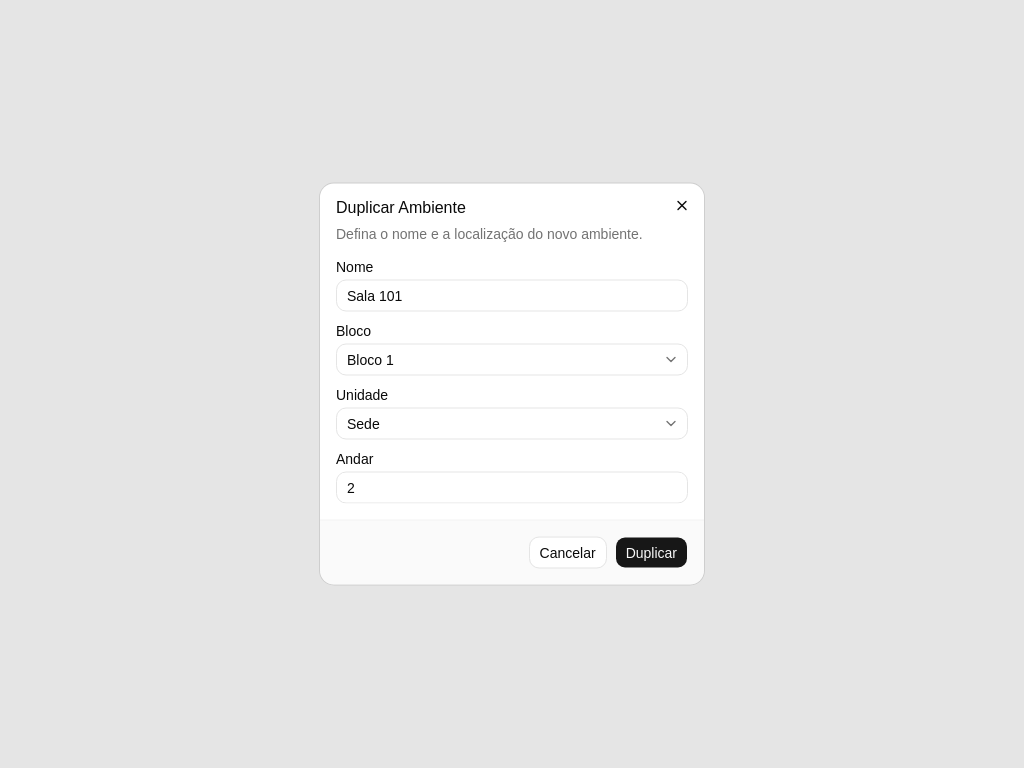
ModalDuplicar › validação client-side › não submete com nome vazio e exibe mensagem
The width and height of the screenshot is (1024, 768).
Step 1. Clear the field labelled "Nome" → (512, 296), box [336, 280, 688, 312]
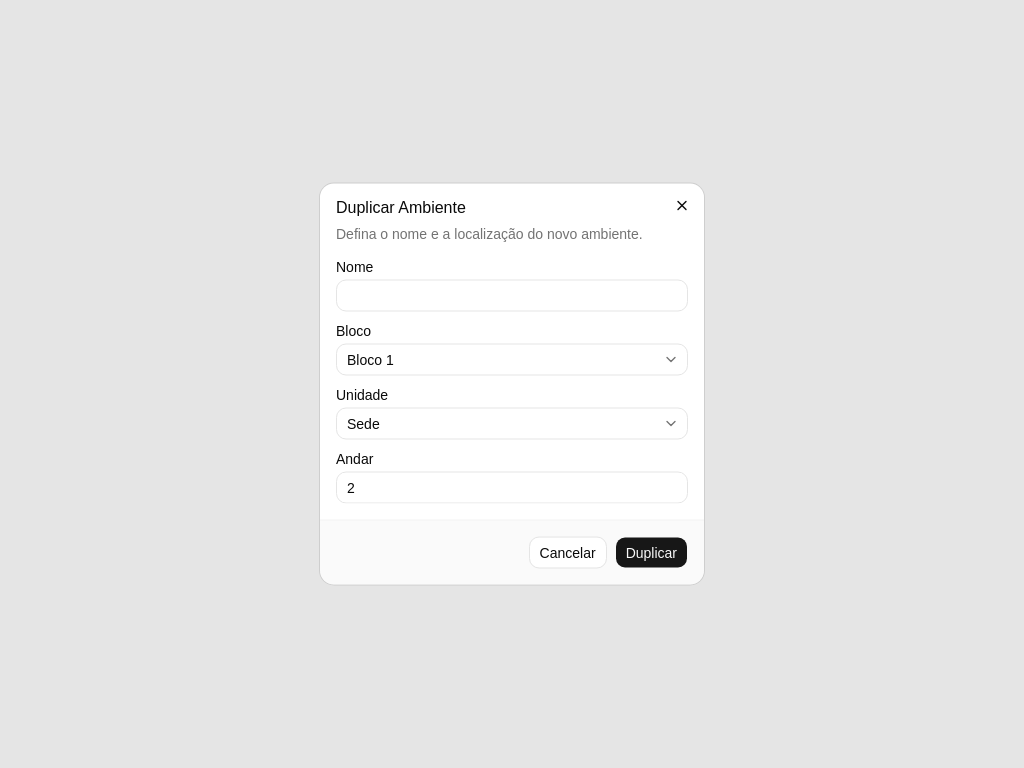
Step 2. Click the button "Duplicar" → (651, 552), box [615, 536, 688, 568]
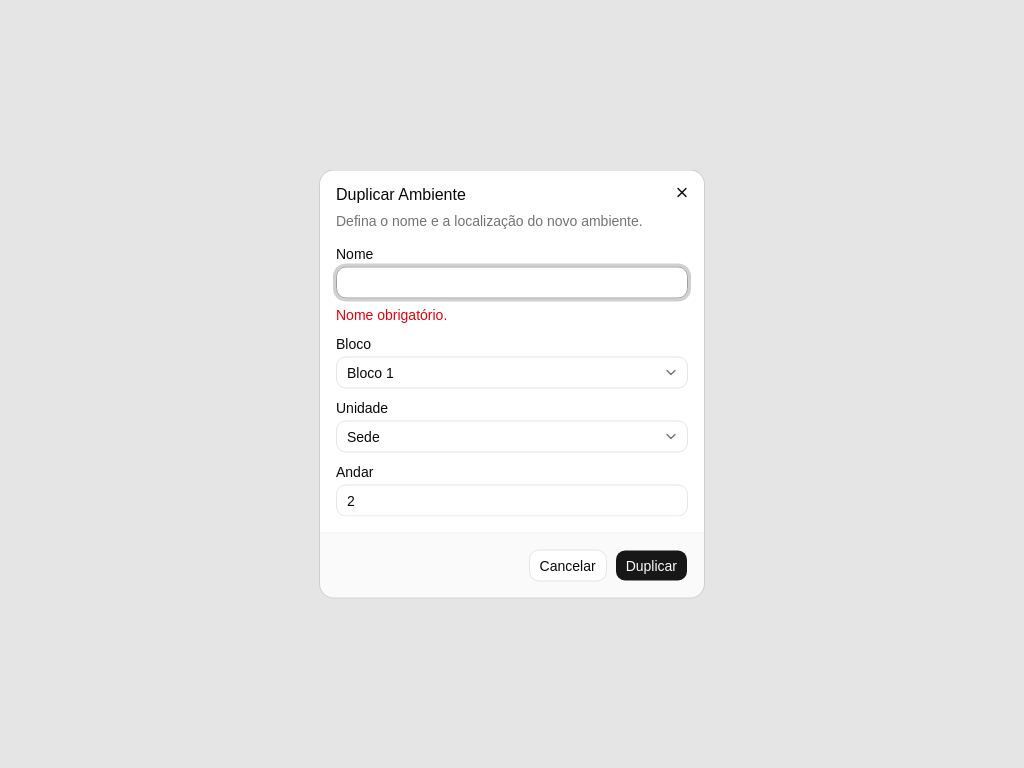
Now the message reads "Nome obrigatório.", box [336, 306, 447, 322]
